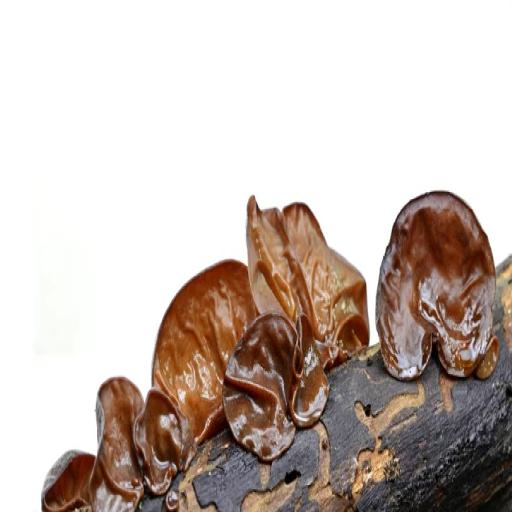Wood Ear Mushroom: (368, 168, 508, 414), (238, 179, 377, 419), (147, 252, 276, 446), (212, 293, 321, 483), (86, 362, 186, 512), (42, 421, 110, 512)
